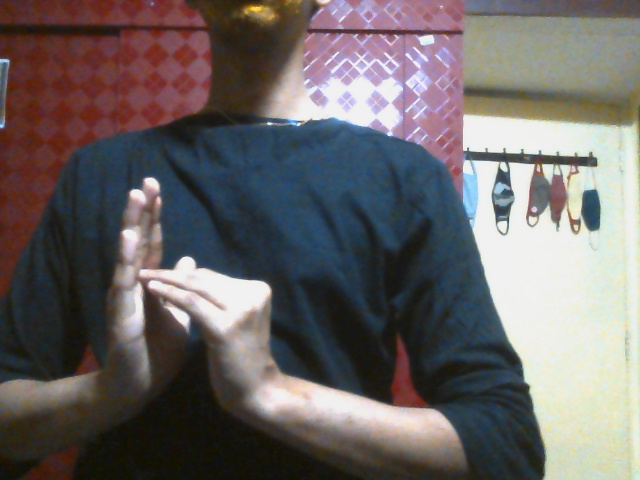Z: (88, 175, 284, 434)
